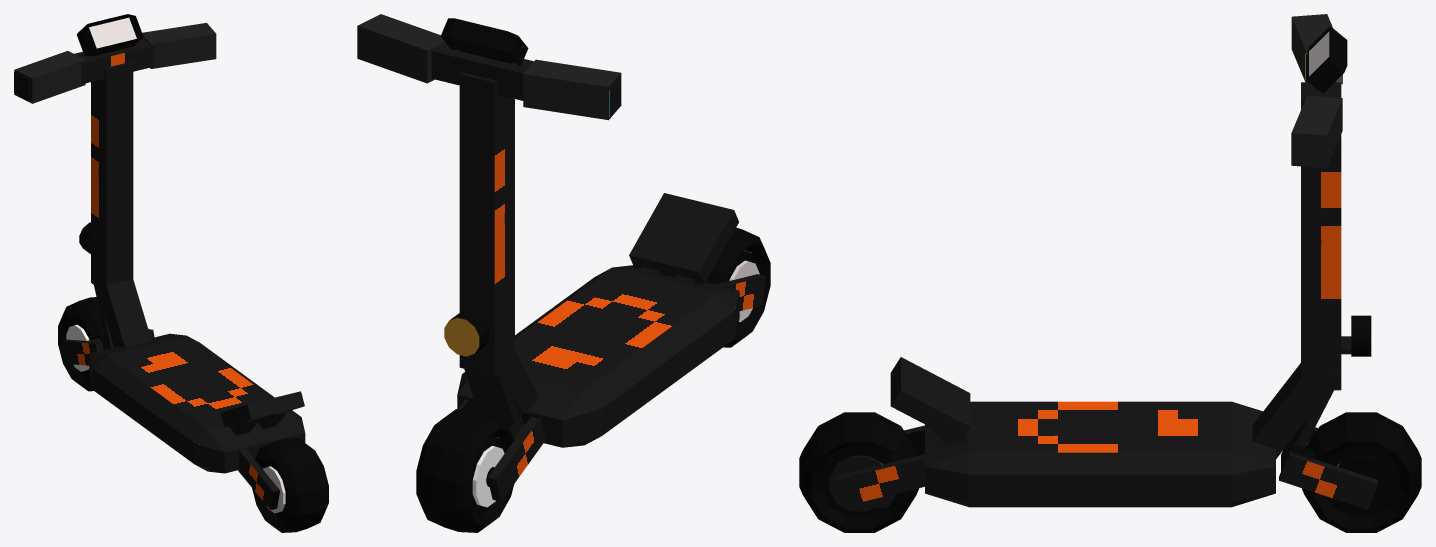
The model's file is e-scooter.glb.
3 views of the same model, side by side, from view 1: azimuth 30°, elevation 25°; view 2: azimuth 150°, elevation 25°; view 3: azimuth 270°, elevation 25° (orthographic). The views are drawn at different scales.
Visible parts, largest first — view 1: group, beveled_cuboid (×2), torus (×2), cylinder (×2); view 2: group, beveled_cuboid (×2), torus (×2), cylinder (×4); view 3: beveled_cuboid (×2), group, torus (×2), cylinder (×5).
Boxes of the visible parts, x1,y1,x2,y2 form: group: (14,23,304,509); beveled_cuboid (×2): (76,14,305,473); torus (×2): (58,297,328,532); cylinder (×2): (262,458,288,519); group: (357,14,766,501); beveled_cuboid (×2): (440,18,739,447); torus (×2): (416,227,770,532); cylinder (×4): (444,260,759,514); beveled_cuboid (×2): (925,27,1347,507); group: (835,14,1377,509); torus (×2): (799,412,1421,532); cylinder (×5): (820,315,1400,516).
Size of the model in its own units: 0.8987 by 1.67 by 1.94.
Materials: 1 (1 with a texture image).
